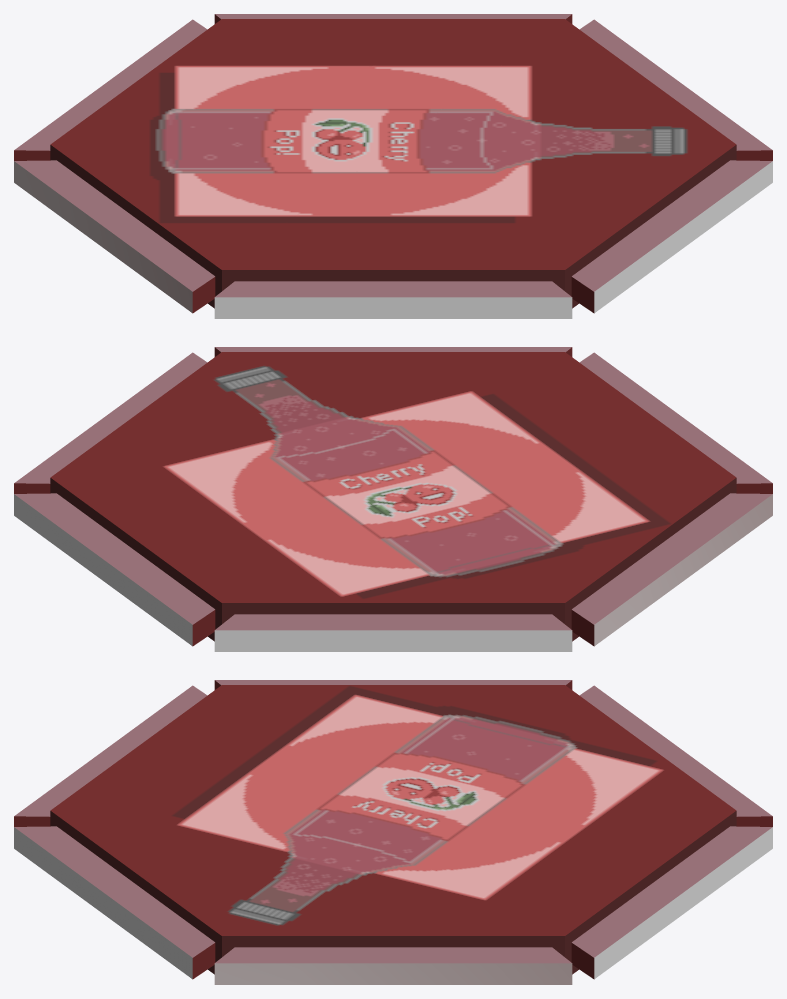
The model's file is Cherry Pop Coin.fbx.
3 renders of one model, top to bottom at view 1: azimuth 30°, elevation 25°; view 2: azimuth 150°, elevation 25°; view 3: azimuth 270°, elevation 25°, orthographic.
Parts seen in each view (by area): view 1: (Red) Cherry Pop Coin; view 2: (Red) Cherry Pop Coin; view 3: (Red) Cherry Pop Coin.
Boxes of the visible parts, x1,y1,x2,y2 form: (Red) Cherry Pop Coin: (14, 14, 772, 318); (Red) Cherry Pop Coin: (14, 347, 772, 651); (Red) Cherry Pop Coin: (14, 680, 772, 984).
Bounding box in the file's own units: 195 × 14.09 × 221.
